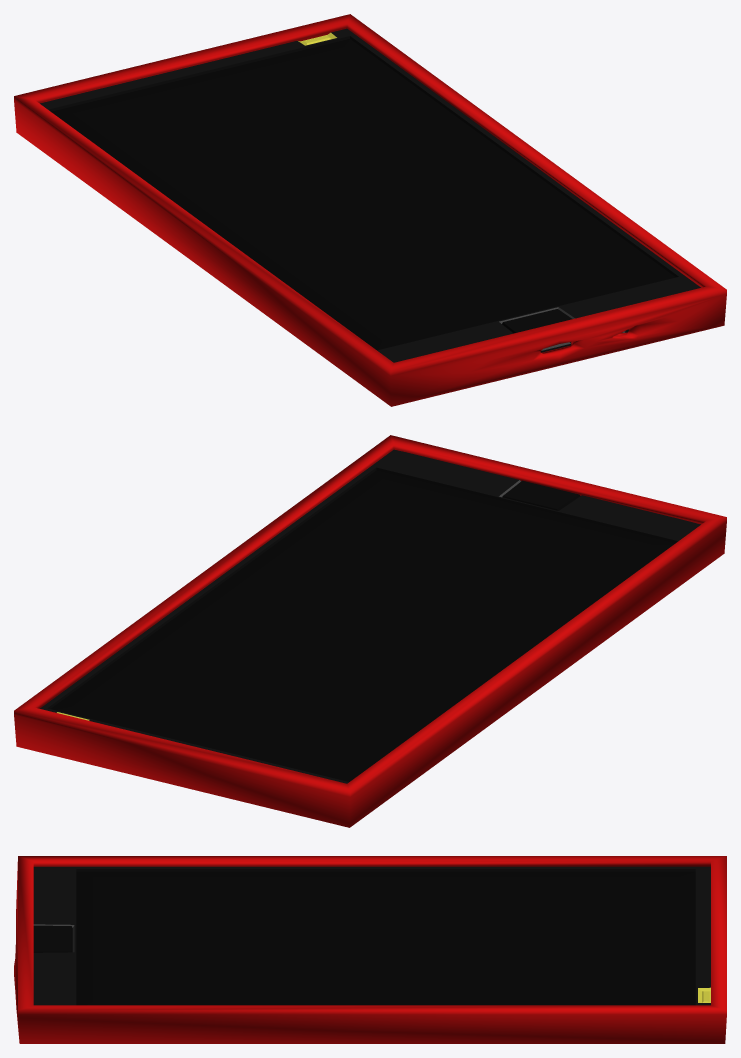
Rendered from Cel.FBX.
3 renders of one model, top to bottom at view 1: azimuth 30°, elevation 25°; view 2: azimuth 150°, elevation 25°; view 3: azimuth 270°, elevation 25°, orthographic. The views are drawn at different scales.
Visible parts, largest first — view 1: Box001, Capinha; view 2: Box001, Capinha; view 3: Box001, Capinha.
Part boxes in pixels (x1=…): Box001: x1=40, y1=28, x2=700, y2=362; Capinha: x1=14, y1=14, x2=726, y2=406; Box001: x1=40, y1=449, x2=700, y2=783; Capinha: x1=14, y1=435, x2=726, y2=827; Box001: x1=33, y1=866, x2=710, y2=1005; Capinha: x1=14, y1=856, x2=726, y2=1043.
Bounding box in the file's own units: 66.79 × 6.86 × 130.
